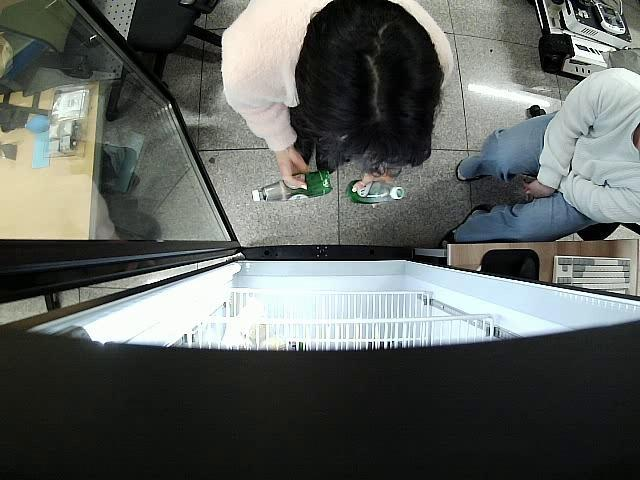18_trevi: (251, 171, 332, 201), (344, 178, 404, 205)
